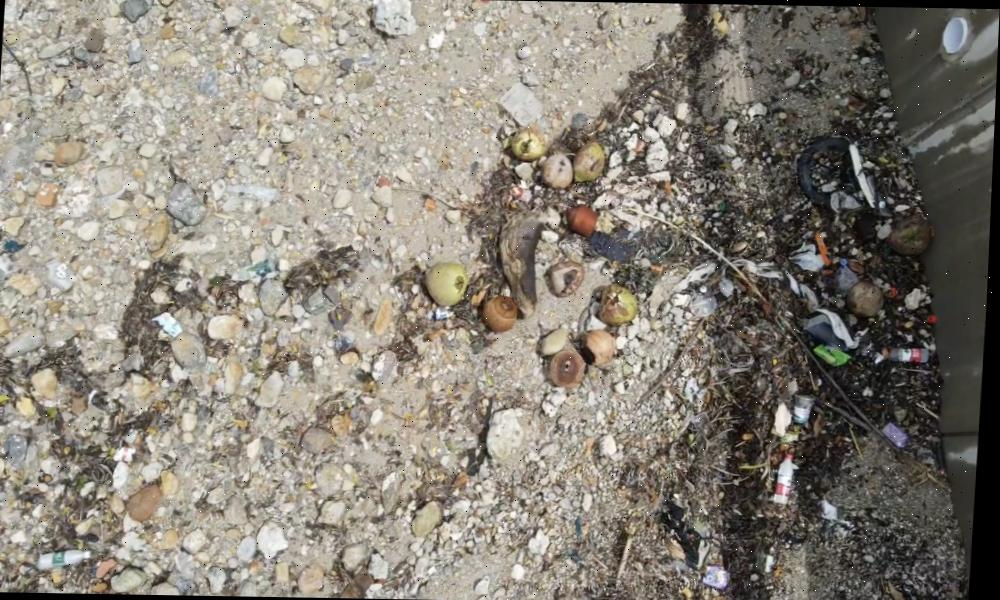plastic bottle: (42, 546, 96, 568), (779, 454, 797, 500), (893, 346, 931, 361)
plastic container: (494, 78, 547, 129), (797, 389, 817, 428)
tire: (791, 124, 861, 212)
